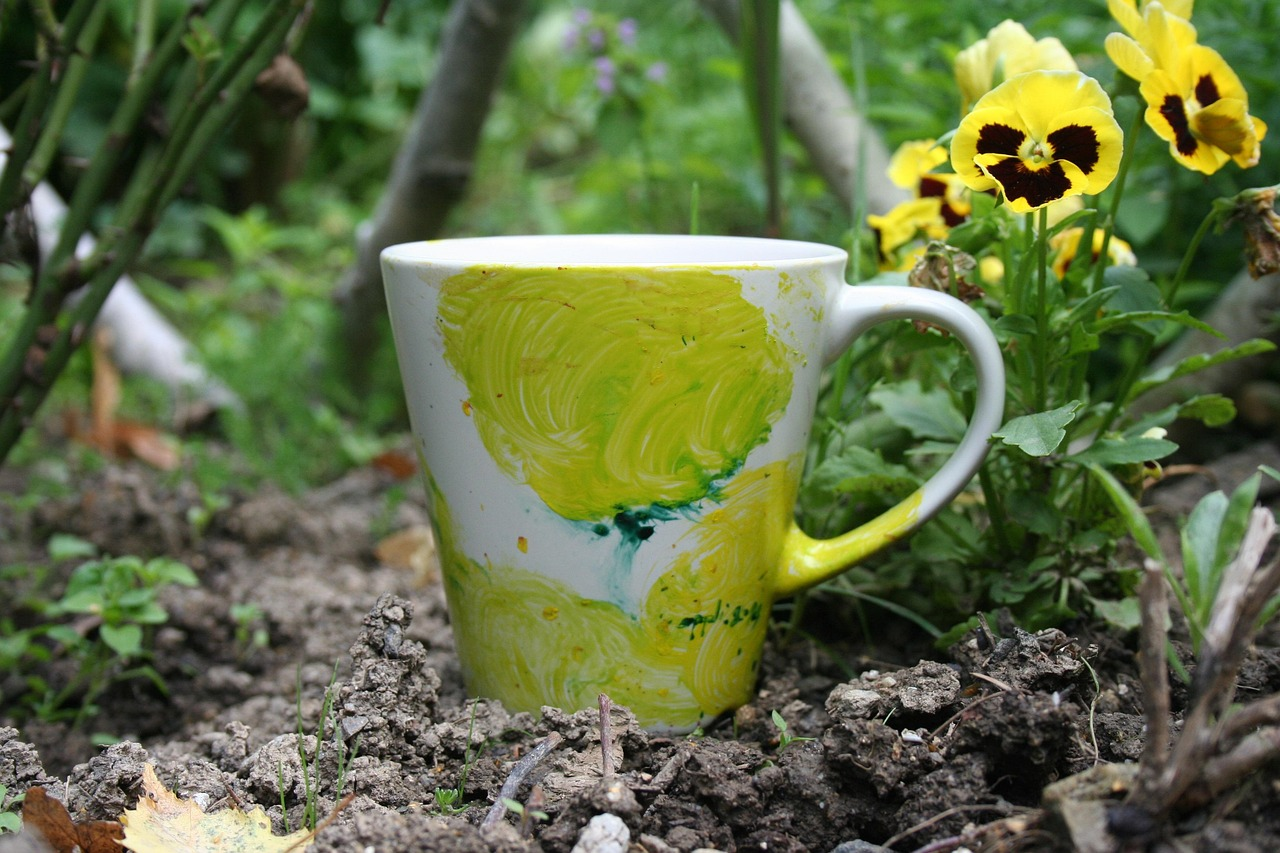mug: (368, 204, 1011, 730)
